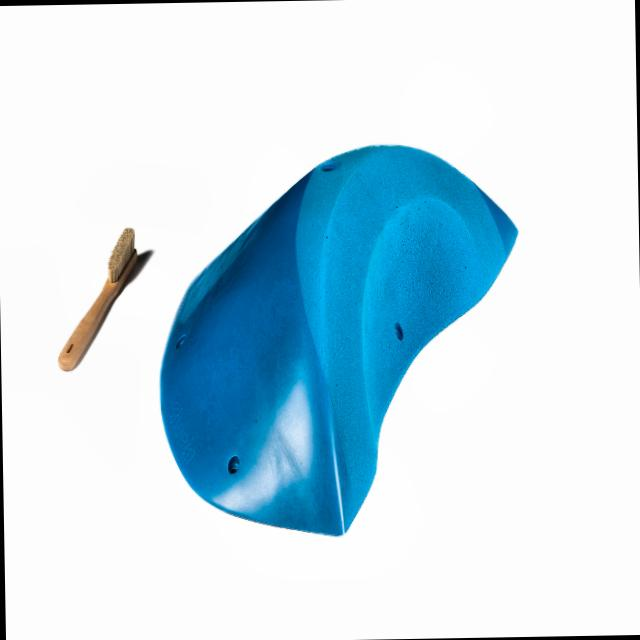Hold: (157, 132, 541, 544)
